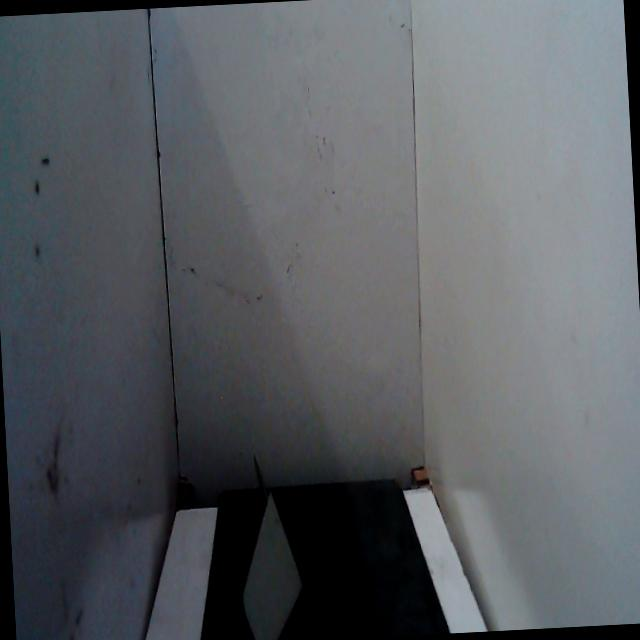metal: (228, 446, 310, 640)
